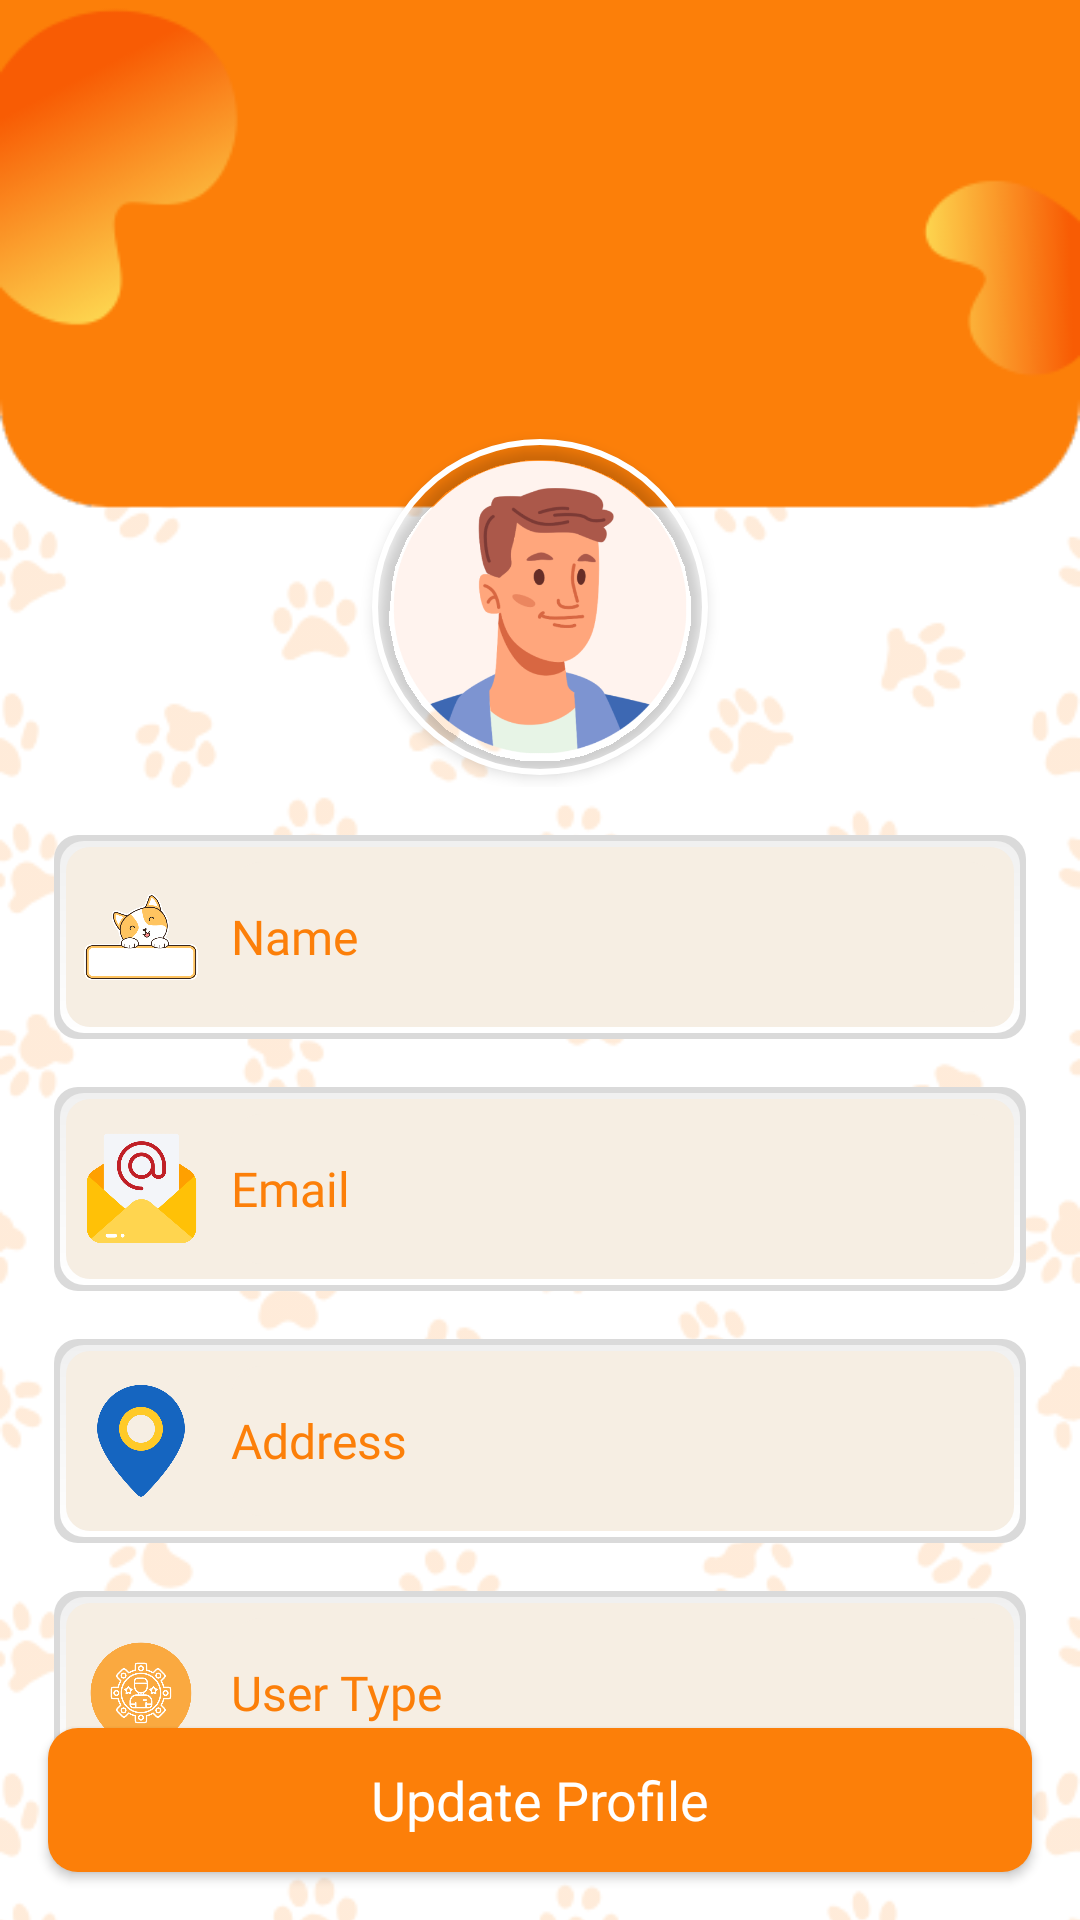

Icon click points for this 1080 × 1920 phone screenshot, format point (x, y):
avatarimg: point (540, 607)
usericon: point (141, 1697)
